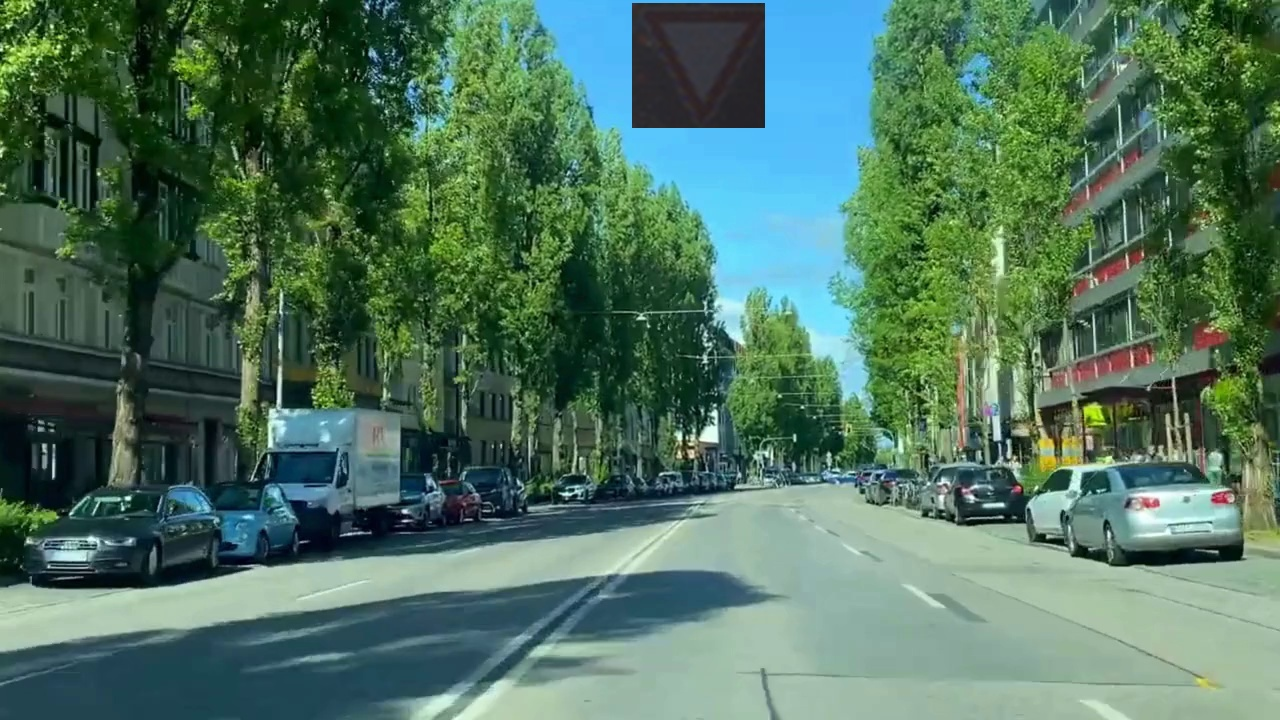Yield: (632, 3, 765, 128)
